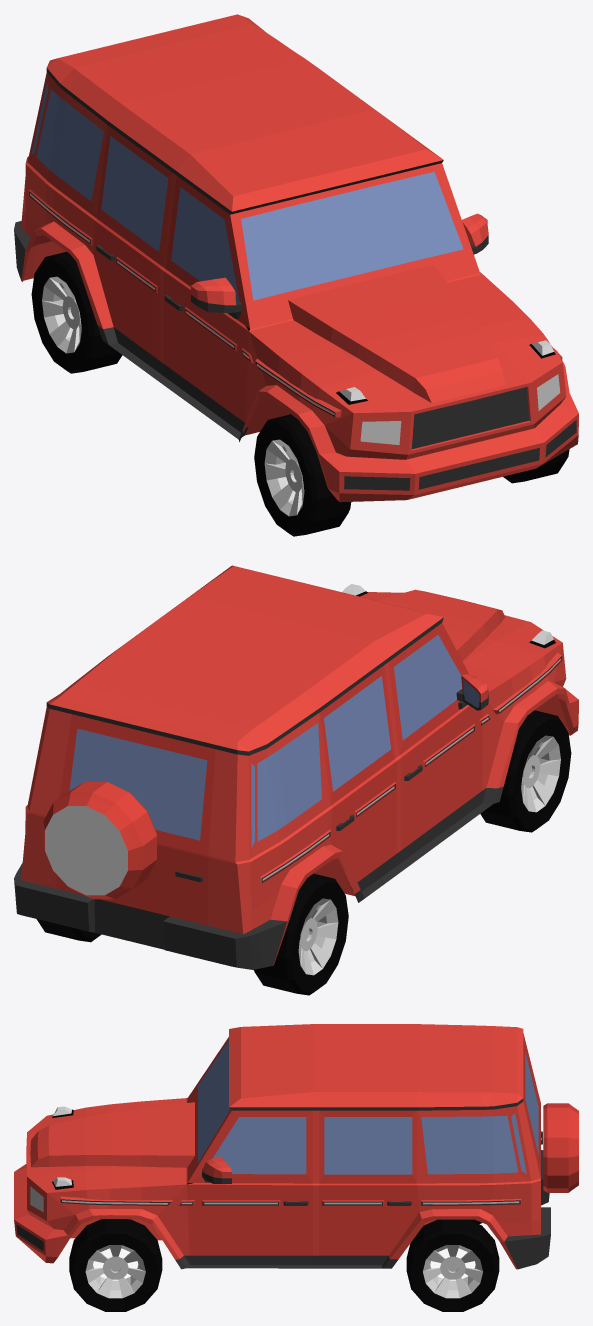
File: Car2.fbx
3 renders of one model, top to bottom at view 1: azimuth 30°, elevation 25°; view 2: azimuth 150°, elevation 25°; view 3: azimuth 270°, elevation 25°, orthographic. The views are drawn at different scales.
Parts seen in each view (by area): view 1: Car, WindScreen, DoorFR, DoorRR, TyreFR, TyreRR, WindowMR, WindowRR, WindowFR, DoorFL, TyreFL; view 2: Car, DoorFR, SpareWheel, Trunk, WindowTrunk, DoorRR, TyreRR, TyreFR, WindowRR, WindowMR, WindowFR, TyreRL; view 3: Car, DoorFL, DoorRL, TyreFL, TyreRL, WindowRL, WindowML, WindowFL, SpareWheel, WindScreen, WindowTrunk, Trunk.
Boxes of the visible parts, x1,y1,x2,y2 form: Car: [14, 14, 578, 502]; WindScreen: [241, 171, 463, 300]; DoorFR: [164, 176, 249, 422]; DoorRR: [93, 125, 172, 360]; TyreFR: [254, 414, 351, 536]; TyreRR: [31, 251, 122, 373]; WindowMR: [101, 136, 168, 251]; WindowRR: [36, 89, 103, 201]; WindowFR: [171, 187, 239, 301]; DoorFL: [462, 213, 488, 272]; TyreFL: [503, 449, 569, 483]; Car: [14, 565, 578, 969]; DoorFR: [388, 623, 488, 849]; SpareWheel: [43, 781, 156, 899]; Trunk: [56, 714, 215, 925]; WindowTrunk: [69, 728, 207, 840]; DoorRR: [319, 665, 397, 886]; TyreRR: [254, 873, 348, 995]; TyreFR: [480, 710, 571, 832]; WindowRR: [257, 723, 321, 841]; WindowMR: [324, 676, 390, 791]; WindowFR: [394, 635, 462, 740]; TyreRL: [36, 919, 101, 942]; Car: [14, 1024, 550, 1269]; DoorFL: [186, 1110, 312, 1255]; DoorRL: [319, 1110, 419, 1255]; TyreFL: [69, 1219, 162, 1311]; TyreRL: [406, 1219, 499, 1311]; WindowRL: [421, 1115, 518, 1174]; WindowML: [324, 1117, 412, 1174]; WindowFL: [212, 1117, 306, 1174]; SpareWheel: [543, 1103, 578, 1192]; WindScreen: [198, 1040, 229, 1162]; WindowTrunk: [525, 1052, 538, 1154]; Trunk: [523, 1041, 542, 1168].
Size of the model in its own units: 2.17 by 1.95 by 4.82.
